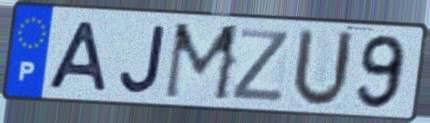9: (353, 32, 410, 112)
A: (44, 19, 110, 94)
J: (118, 22, 169, 96)
M: (160, 20, 245, 105)
U: (288, 25, 357, 111)
Z: (228, 26, 293, 104)
